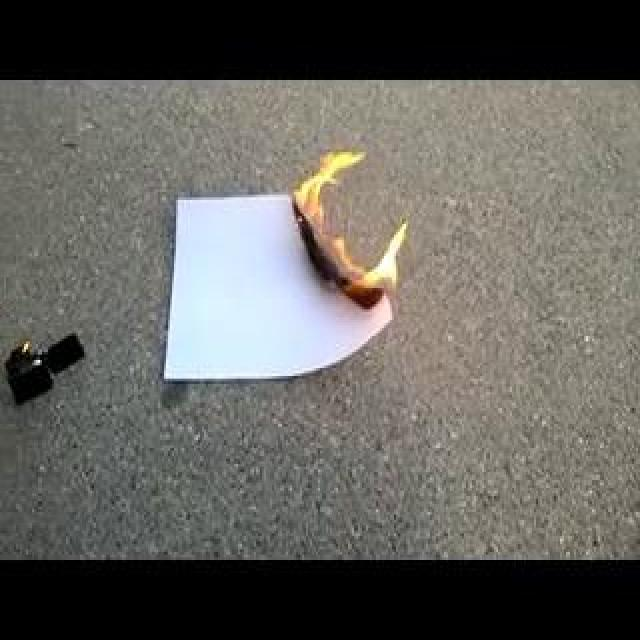Fire: (130, 168, 371, 240)
